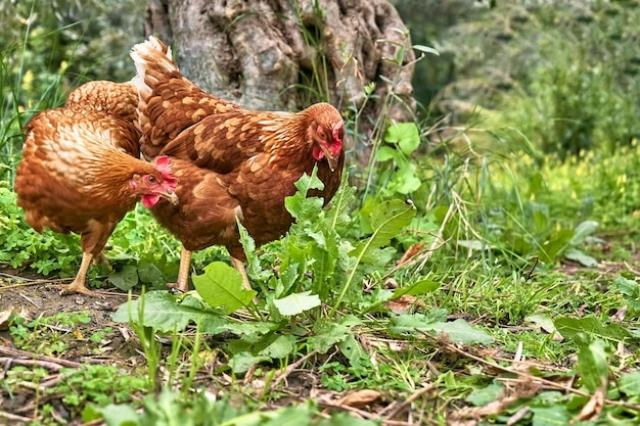Chicken: (130, 36, 344, 298), (12, 80, 181, 300)
